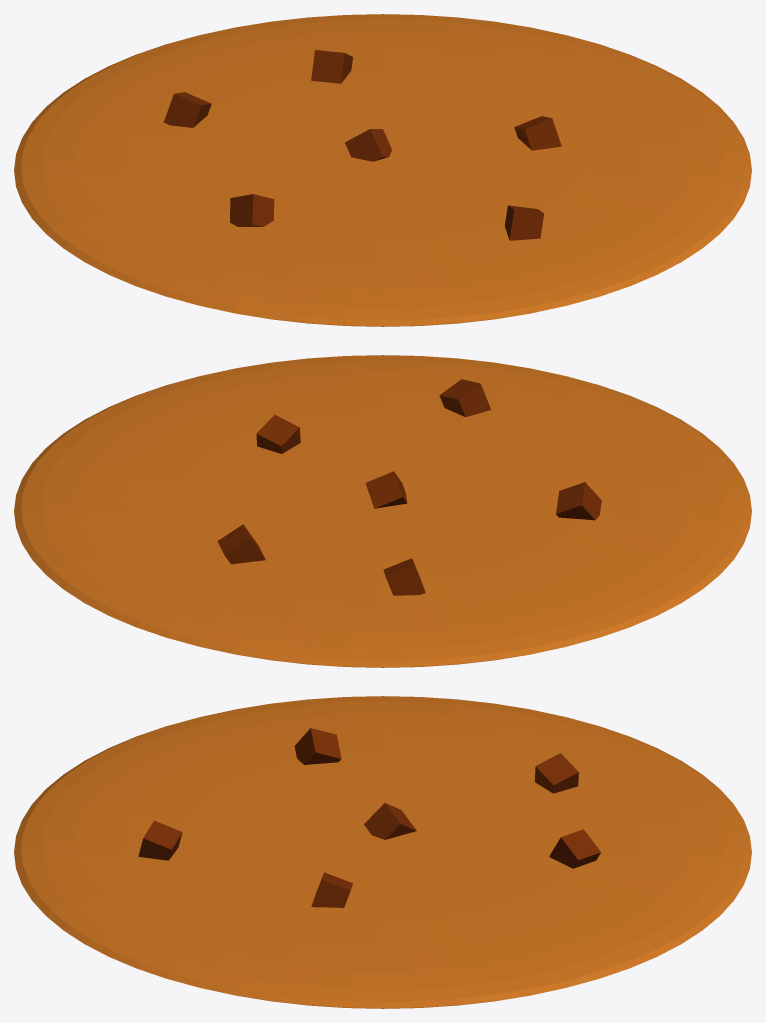
File: Pranik.fbx
3 views of the same model, one above another, from view 1: azimuth 30°, elevation 25°; view 2: azimuth 150°, elevation 25°; view 3: azimuth 270°, elevation 25° (orthographic).
Visible parts, largest first — view 1: Sphere; view 2: Sphere; view 3: Sphere.
Part boxes in pixels (x1,y1,x2,y2): Sphere: [14, 14, 751, 326]; Sphere: [14, 355, 751, 667]; Sphere: [14, 696, 751, 1008].
Bounding box in the file's own units: 152 × 14 × 152.
